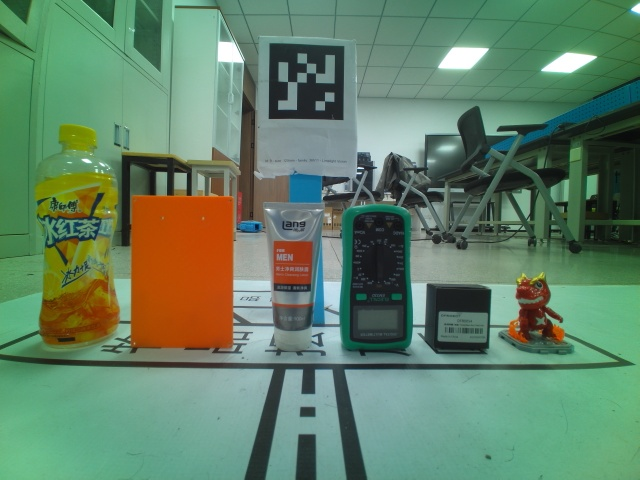banzi: (424, 282, 492, 353)
binghongcha: (499, 270, 576, 355)
dabao: (261, 201, 325, 351)
dianbiao: (35, 124, 123, 351)
hezi: (338, 203, 414, 352)
long: (130, 195, 235, 349)
